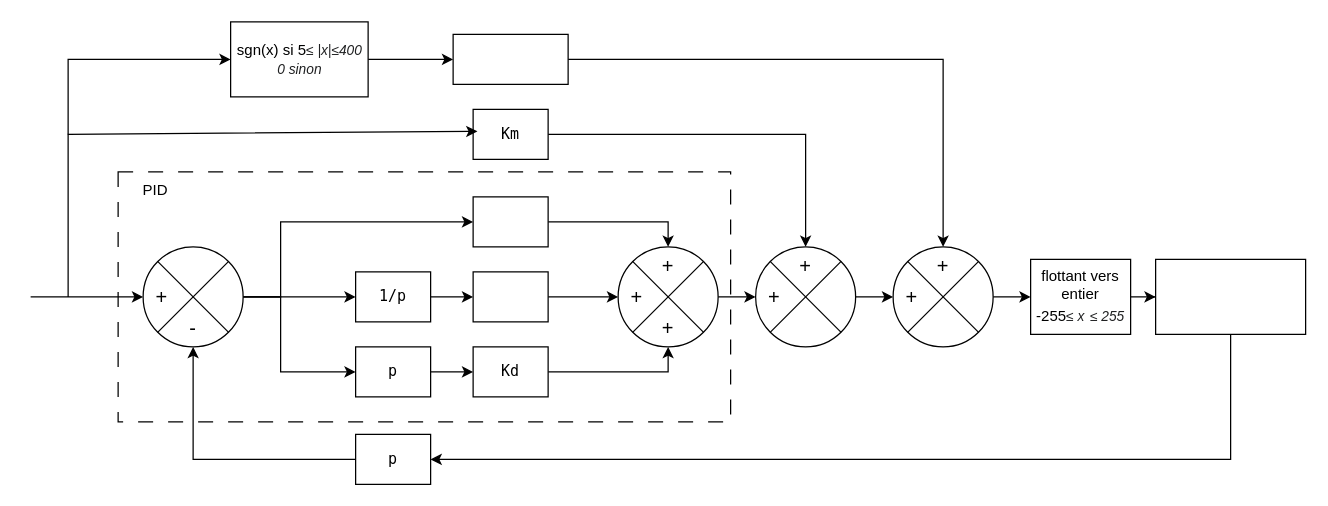
Some shapes in this 1328 by 506 pixel diagram are drawn without their labels. The centre of each missing label's shape, as x and y in pixels:
Kfriction: pixel 510 58
Ki: pixel 510 296
Kp: pixel 510 221
Moteur: pixel 1230 296
